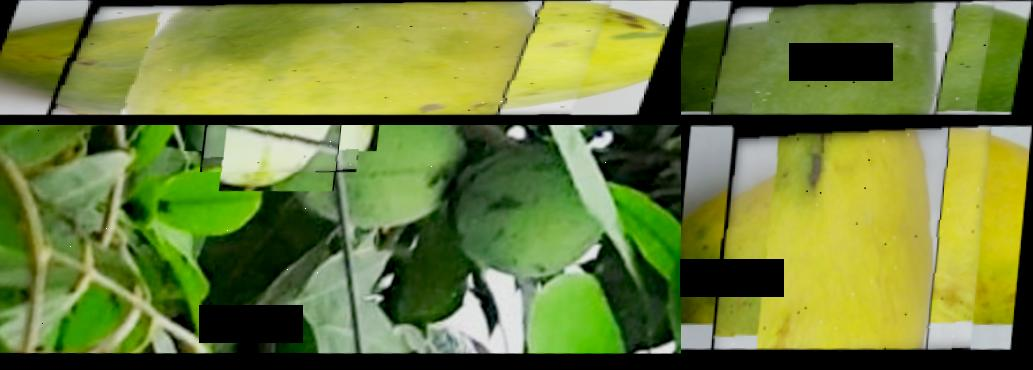PartiallyRipe: (47, 0, 614, 123)
Ripe: (712, 125, 992, 365)
Unripe: (708, 0, 998, 123), (200, 125, 372, 179)
